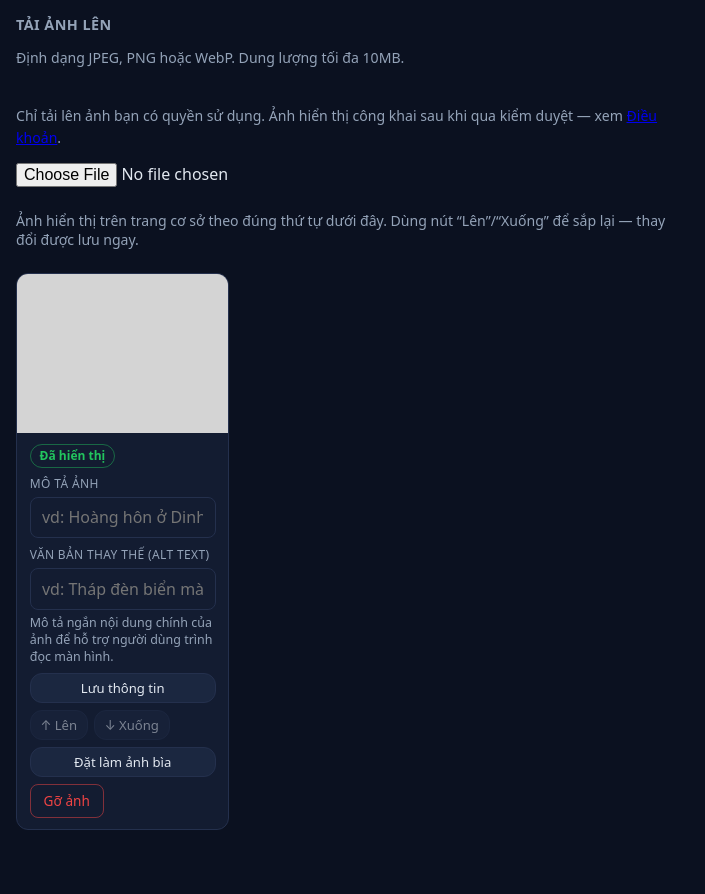
Test case: PhotosView — ảnh bìa › API trả 422 → giải thích đúng lý do, danh sách KHÔNG đổi
The width and height of the screenshot is (705, 894).
(page scrolled)
Click the button "Đặt làm ảnh bìa" at (123, 762), box [30,747,216,777]
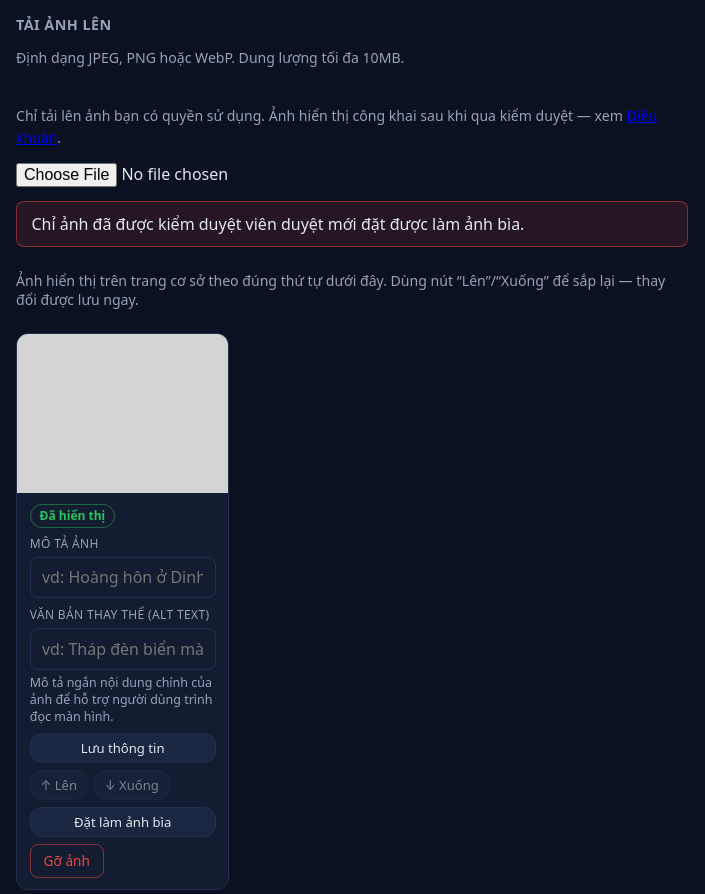
Now the message reads "Chỉ ảnh đã được kiểm duyệt viên duyệt mới đặt được làm ảnh bìa.", box [31,213,524,235]
